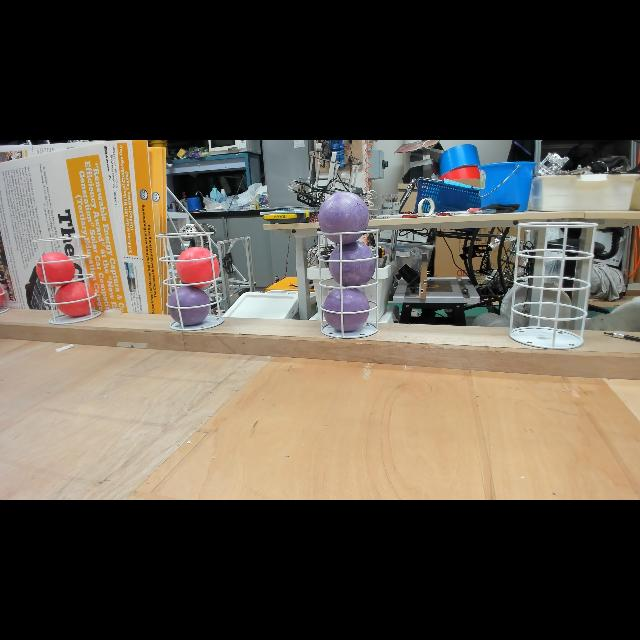P: (318, 191, 370, 245), (328, 240, 377, 288), (322, 286, 370, 334), (167, 286, 211, 326)
R: (174, 246, 220, 288), (54, 280, 98, 318), (36, 251, 76, 287)
S: (508, 221, 600, 351), (153, 230, 225, 332), (316, 228, 380, 340), (29, 234, 102, 326)
